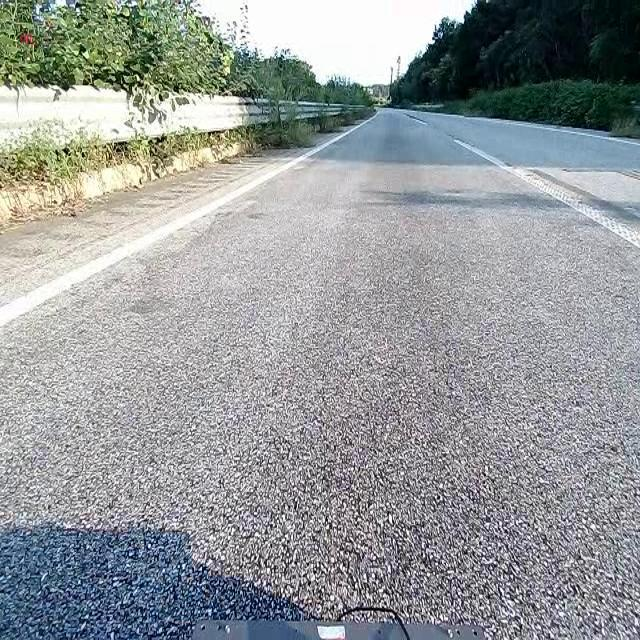Lane: (0, 112, 374, 331), (0, 120, 370, 334), (456, 137, 640, 248), (455, 140, 639, 247)
